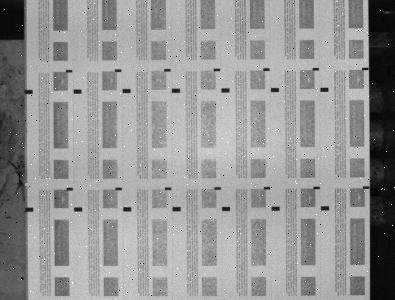backgroundclutter: (21, 276, 24, 280)
qblock: (222, 206, 231, 211), (73, 89, 82, 94), (122, 88, 131, 93), (272, 206, 280, 211), (74, 207, 82, 212), (321, 87, 329, 92), (25, 207, 33, 212), (172, 88, 180, 93), (321, 206, 330, 210), (123, 207, 132, 211), (271, 88, 280, 92), (173, 207, 181, 211), (25, 90, 33, 94), (222, 88, 230, 92)
smallqblock: (164, 68, 171, 72), (66, 69, 73, 73), (165, 187, 172, 190), (215, 187, 222, 190), (264, 186, 271, 189), (66, 187, 73, 190), (214, 68, 221, 71), (314, 186, 321, 189), (313, 68, 320, 71), (115, 69, 122, 72), (116, 187, 122, 190), (364, 186, 370, 189), (264, 68, 270, 71), (363, 67, 369, 70)
